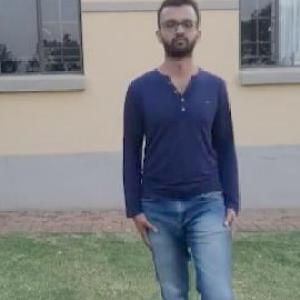follow: (122, 5, 238, 282)
